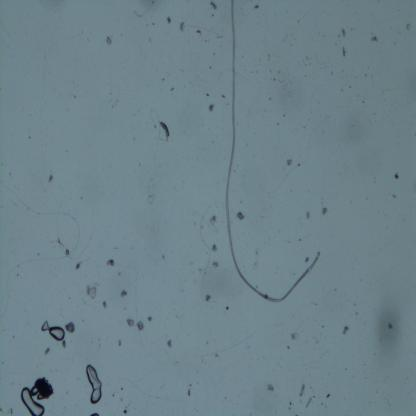Air bubble: (83, 363, 103, 405), (22, 387, 46, 416), (42, 320, 65, 340), (30, 386, 38, 396)
Background material: (148, 112, 170, 141), (382, 310, 399, 347), (35, 377, 56, 398), (134, 0, 154, 18), (84, 284, 97, 298), (253, 245, 260, 270), (210, 213, 218, 232), (146, 194, 157, 206), (64, 323, 77, 333), (46, 173, 56, 185), (54, 236, 64, 247), (264, 382, 275, 392), (290, 332, 301, 342), (104, 33, 113, 45), (207, 102, 216, 112), (208, 0, 217, 9), (119, 290, 129, 298), (137, 320, 144, 331), (305, 397, 312, 408), (300, 382, 305, 397), (210, 243, 218, 252), (179, 20, 185, 32), (341, 45, 346, 59), (6, 407, 14, 415), (285, 158, 293, 166), (204, 295, 212, 303), (72, 262, 81, 269), (167, 338, 173, 348), (305, 209, 311, 219), (322, 206, 328, 216), (405, 22, 411, 32), (370, 36, 378, 43), (107, 258, 114, 266), (127, 318, 134, 326), (166, 15, 171, 25), (341, 27, 346, 37), (304, 256, 310, 264), (64, 248, 70, 256), (343, 326, 349, 334), (240, 212, 245, 221), (102, 301, 107, 309), (45, 347, 50, 355), (122, 408, 128, 414), (267, 53, 271, 62), (391, 193, 397, 199), (196, 29, 201, 36), (214, 261, 218, 269), (395, 172, 399, 180), (170, 86, 175, 92), (315, 339, 321, 344), (254, 4, 260, 9), (370, 74, 374, 81), (305, 54, 309, 61), (217, 34, 224, 38), (188, 388, 191, 397), (296, 18, 301, 23), (118, 339, 121, 347), (148, 316, 152, 322), (63, 340, 66, 348), (178, 68, 184, 72), (326, 394, 330, 400), (91, 413, 98, 416), (119, 397, 123, 402), (224, 306, 229, 310), (151, 22, 155, 27), (289, 400, 292, 406), (215, 352, 218, 358), (318, 30, 321, 36), (364, 73, 368, 77), (206, 93, 210, 97), (348, 85, 352, 89), (222, 94, 226, 98), (355, 311, 359, 315), (210, 13, 214, 17), (324, 404, 328, 408), (286, 346, 290, 350), (121, 386, 124, 391), (162, 77, 165, 82), (299, 399, 302, 404), (203, 40, 207, 43), (269, 96, 272, 100), (276, 71, 280, 74), (362, 363, 366, 366), (344, 367, 348, 370), (312, 395, 316, 398), (298, 239, 302, 242), (189, 383, 193, 386), (353, 302, 356, 306), (274, 76, 276, 81), (112, 104, 114, 109), (0, 408, 3, 411), (283, 114, 286, 117), (315, 303, 318, 306), (276, 122, 279, 125), (114, 247, 117, 250), (362, 100, 365, 103), (304, 74, 306, 78), (364, 377, 368, 379), (66, 390, 68, 394), (334, 43, 338, 45), (338, 34, 340, 38), (256, 70, 258, 74), (303, 126, 306, 128), (367, 66, 369, 69), (341, 89, 343, 92), (373, 113, 376, 115), (322, 325, 324, 328), (334, 288, 336, 291), (296, 413, 298, 416), (209, 66, 212, 68), (287, 241, 290, 243), (113, 394, 115, 397), (74, 95, 76, 98), (304, 64, 307, 66), (331, 72, 333, 75), (351, 28, 353, 31), (321, 402, 323, 405), (81, 196, 82, 200), (134, 114, 136, 116), (192, 85, 194, 87), (376, 392, 378, 394), (352, 376, 354, 378), (214, 53, 216, 55), (191, 82, 193, 84), (197, 76, 198, 78)
Microfibre: (223, 0, 321, 306)
